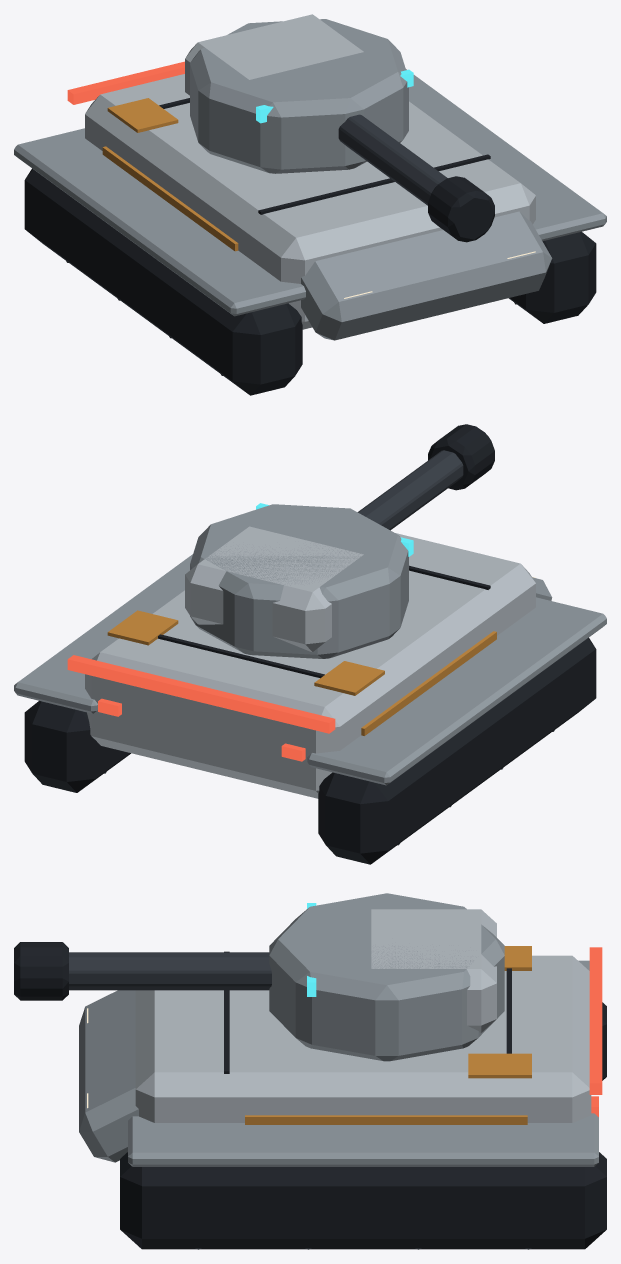
File: exo-tank.glb
3 renders of one model, top to bottom at view 1: azimuth 30°, elevation 25°; view 2: azimuth 150°, elevation 25°; view 3: azimuth 270°, elevation 25°, orthographic. The views are drawn at different scales.
Visible parts, largest first — view 1: body, turret; view 2: body, turret; view 3: body, turret.
Boxes of the visible parts, x1,y1,x2,y2 form: body: [14, 61, 606, 395]; turret: [185, 14, 494, 242]; body: [14, 533, 606, 864]; turret: [185, 424, 494, 658]; body: [79, 946, 606, 1249]; turret: [14, 893, 504, 1061].
Bounding box in the file's own units: 2.95 × 1.58 × 3.77.
